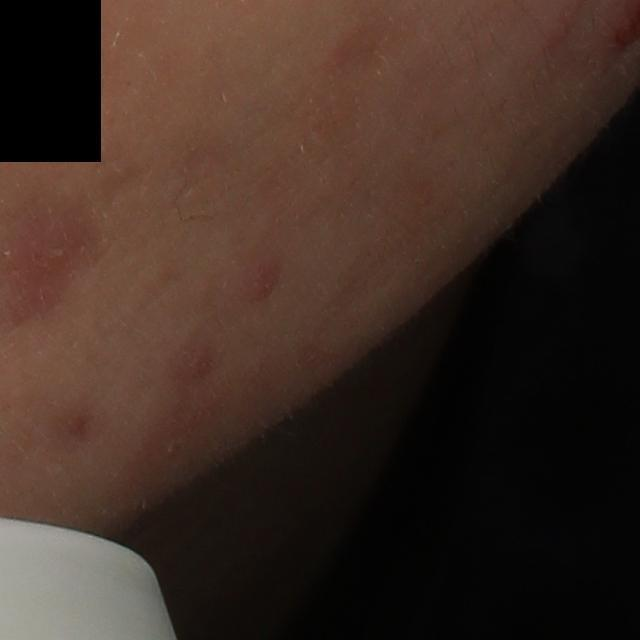papule: (244, 263, 279, 307)
